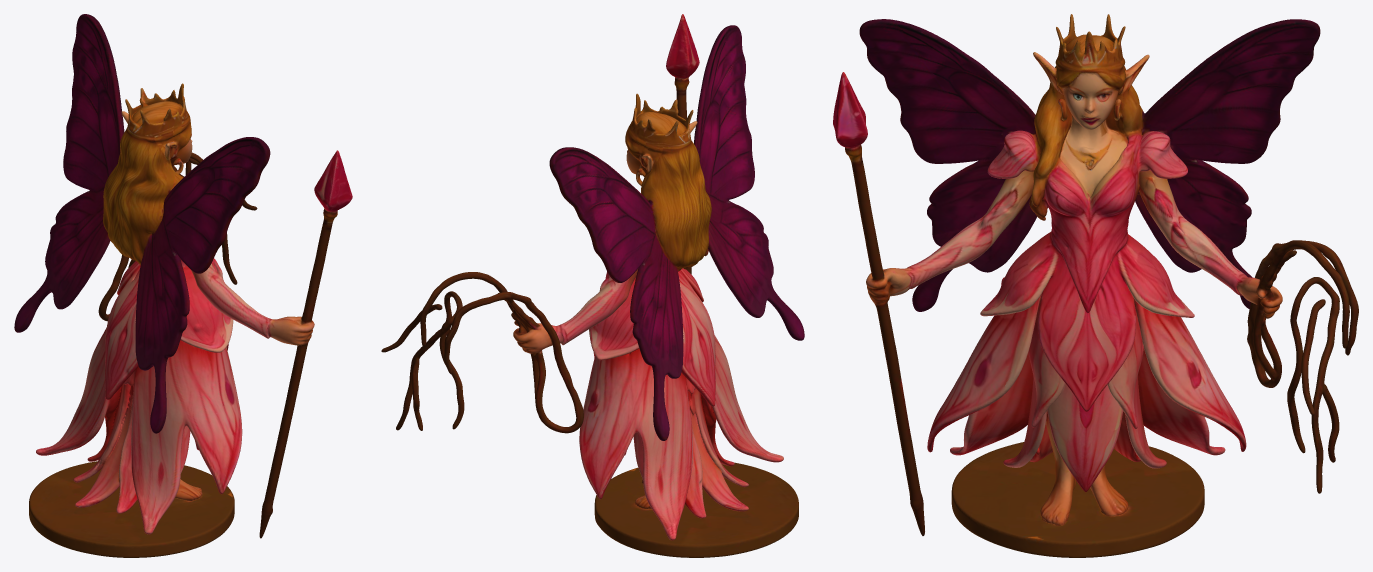
3 views of the same model, side by side, from view 1: azimuth 30°, elevation 25°; view 2: azimuth 150°, elevation 25°; view 3: azimuth 270°, elevation 25° (orthographic). The views are drawn at different scales.
Visible parts, largest first — view 1: tripo_node_dba7433f-54d5-49bd-b279-1daa8587975d; view 2: tripo_node_dba7433f-54d5-49bd-b279-1daa8587975d; view 3: tripo_node_dba7433f-54d5-49bd-b279-1daa8587975d.
Part boxes in pixels (x1,y1,x2,y2): tripo_node_dba7433f-54d5-49bd-b279-1daa8587975d: (14,14,352,557); tripo_node_dba7433f-54d5-49bd-b279-1daa8587975d: (381,14,804,557); tripo_node_dba7433f-54d5-49bd-b279-1daa8587975d: (833,14,1358,557).
Bounding box in the file's own units: 0.772 × 0.9999 × 0.9252.
1 material, 1 textured.
